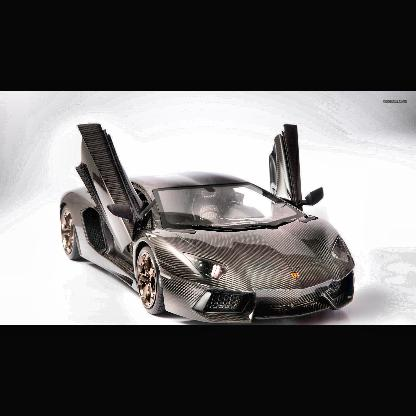Lamborghini Aventador Coupe 2012: (59, 123, 357, 325)
